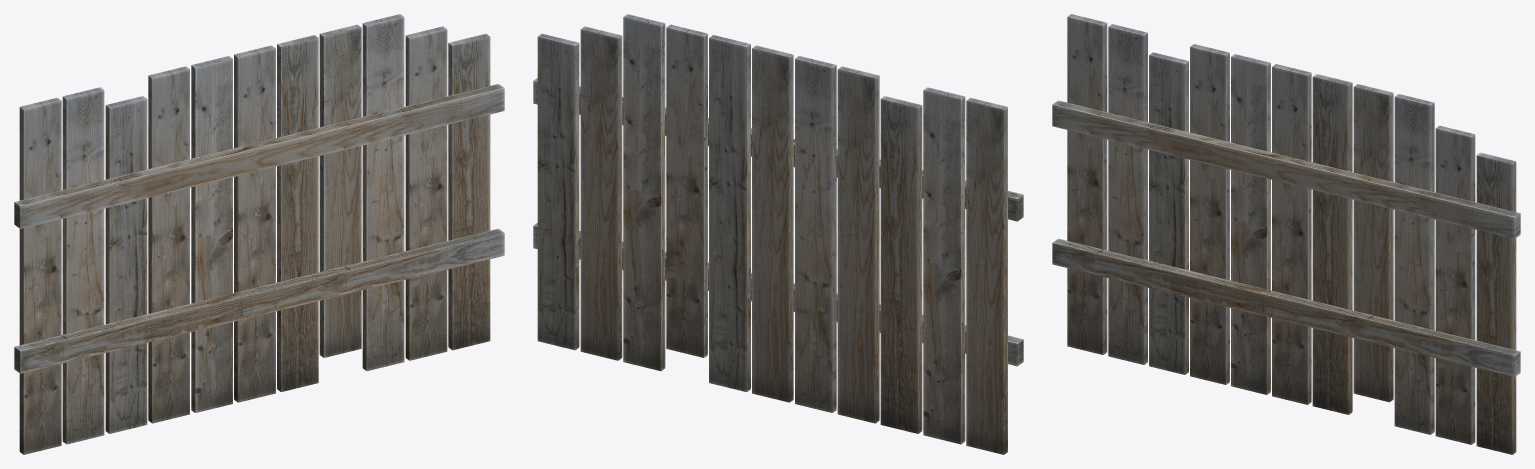
Rendered from hedgeWoodHighA.FBX.
3 views of the same model, side by side, from view 1: azimuth 30°, elevation 25°; view 2: azimuth 150°, elevation 25°; view 3: azimuth 330°, elevation 25° (orthographic). The views are drawn at different scales.
Parts seen in each view (by area): view 1: hedgeWoodHighA; view 2: hedgeWoodHighA; view 3: hedgeWoodHighA.
Part boxes in pixels (box(x1,y1,x2,y2)): hedgeWoodHighA: box(14, 14, 504, 454); hedgeWoodHighA: box(533, 14, 1023, 454); hedgeWoodHighA: box(1052, 14, 1520, 454).
Bounding box in the file's own units: 103 × 70 × 3.75.
